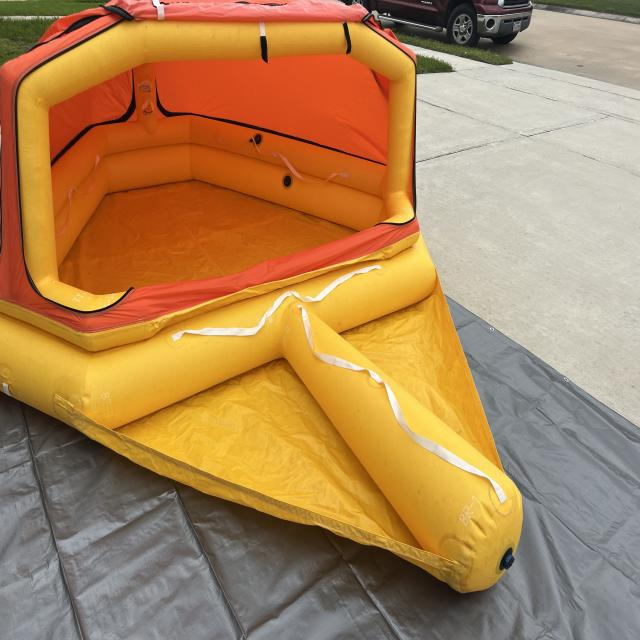Multi-person_life_raft: (0, 1, 524, 597)
